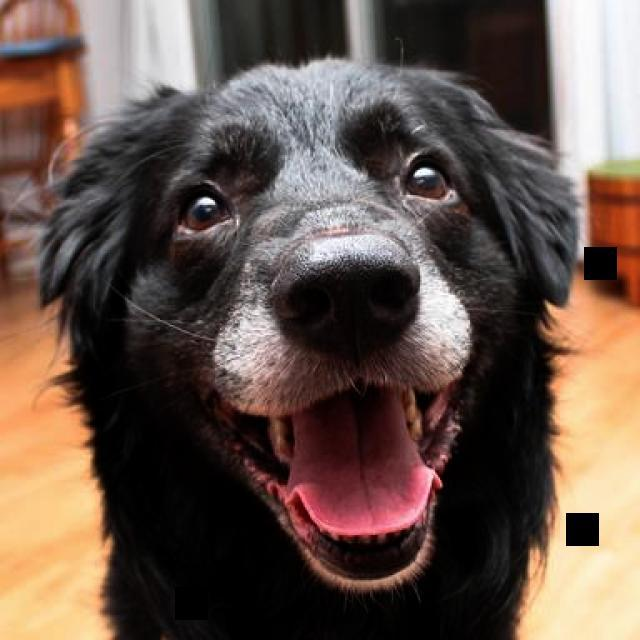adult_dog: (35, 48, 578, 640)
